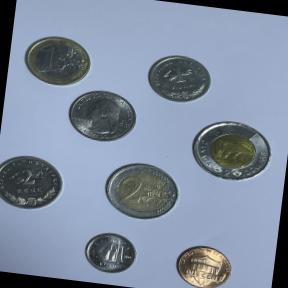coin: (185, 111, 278, 189), (97, 156, 188, 228), (0, 148, 70, 218), (18, 30, 95, 91), (65, 86, 140, 147), (76, 227, 146, 283)
